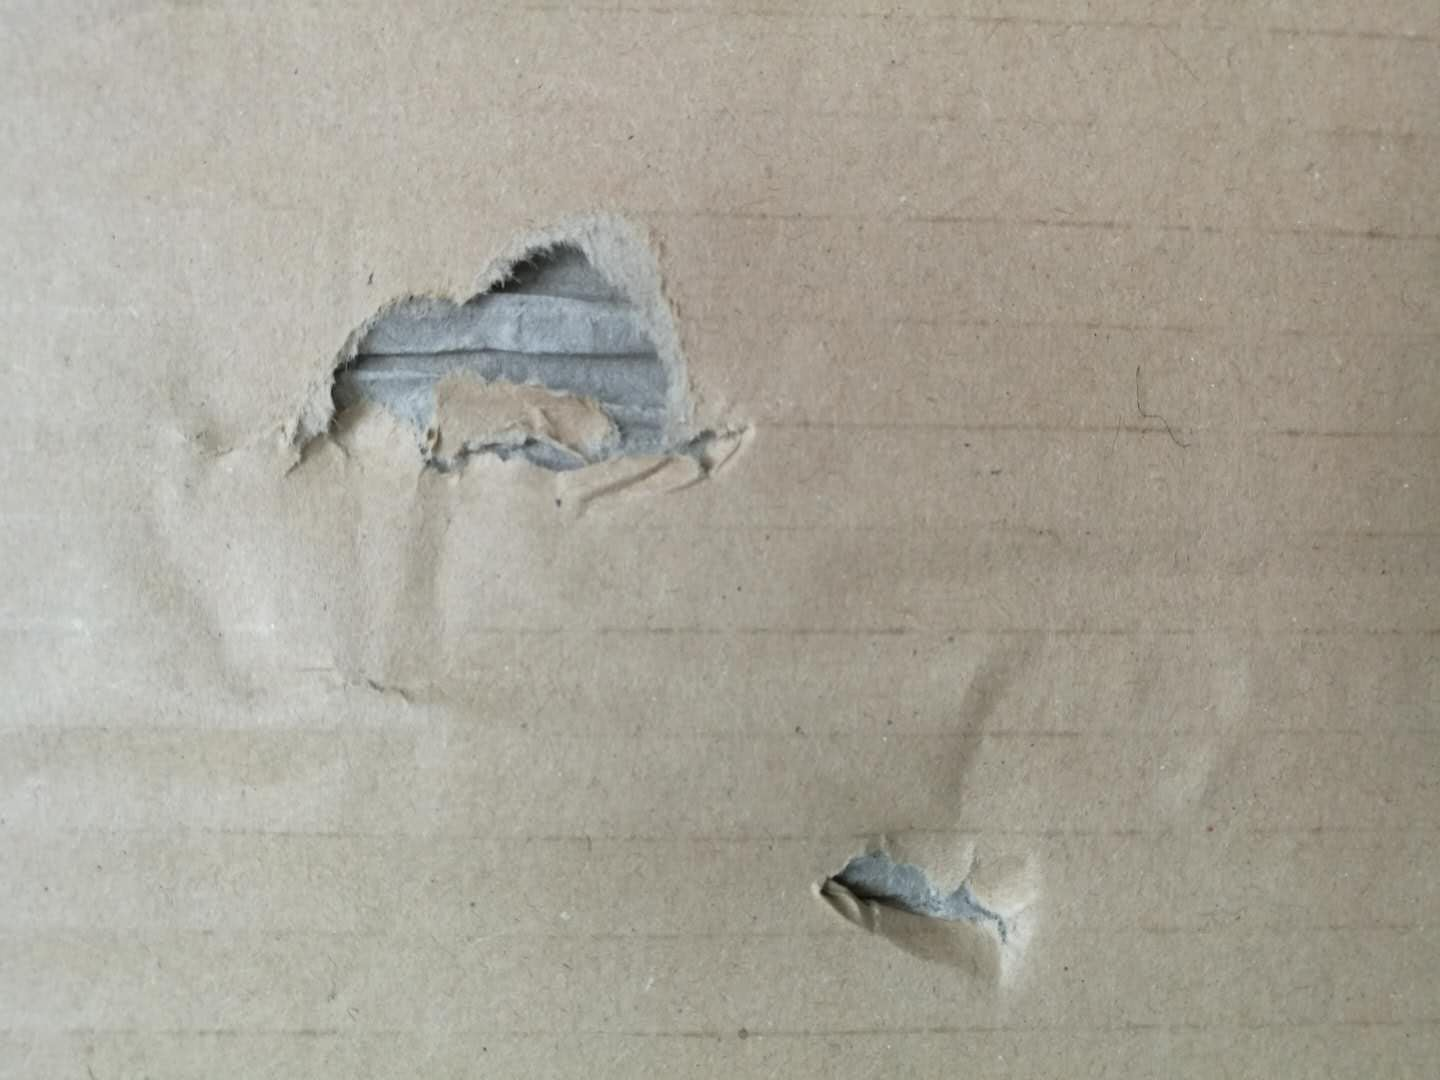defect: (119, 179, 794, 750), (768, 617, 1341, 1006)
